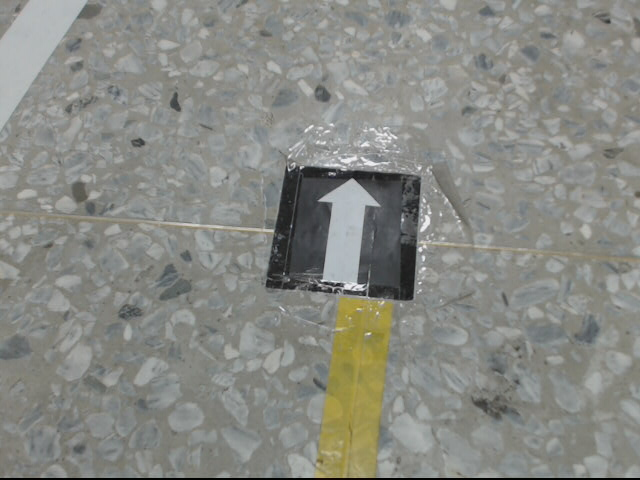straight: (266, 162, 422, 304)
